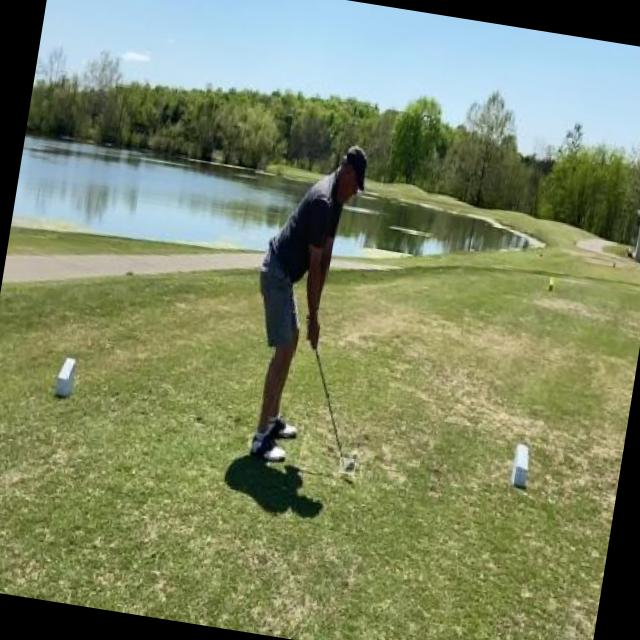club head: (338, 457, 356, 475)
